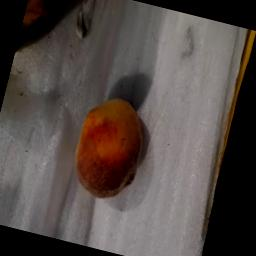Peach Unripe: (57, 84, 159, 210)
